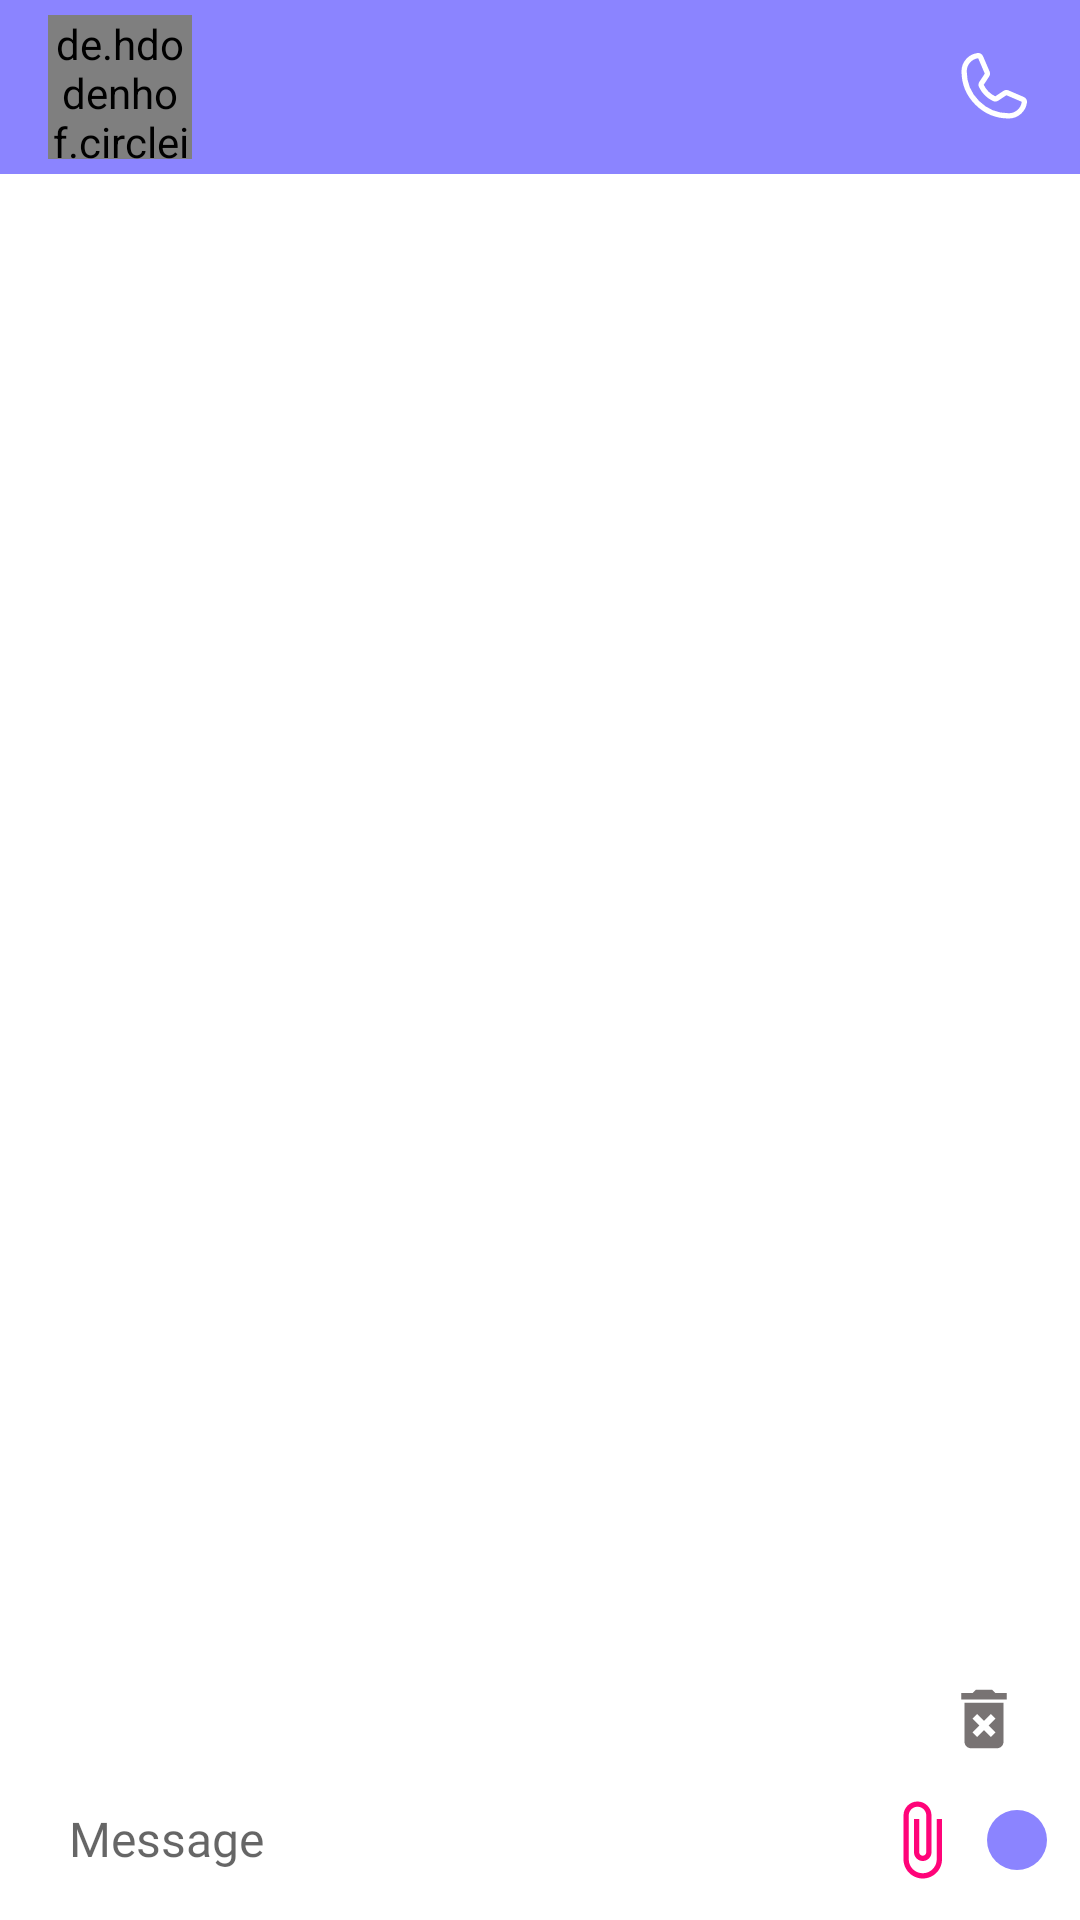

Screen size 1080px x 1920px. Icon name, then its box in pixels as Rect(x1, y1, x2, y2):
Call: Rect(961, 53, 1027, 119)
Remove Selected File: Rect(961, 1689, 1007, 1749)
Send Document: Rect(903, 1801, 942, 1879)
